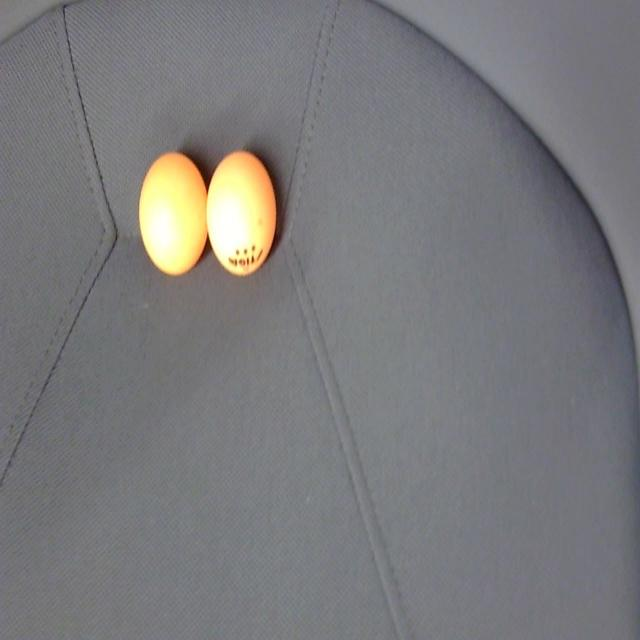ball: (206, 143, 278, 280), (138, 151, 210, 281)
